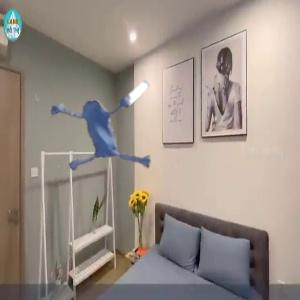drone: (35, 45, 196, 206)
